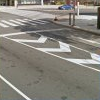crosswalk: (0, 18, 49, 27)
